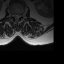CCS_normal: (15, 12, 18, 21)
LFS_normal: (20, 13, 22, 18)
LLS_normal: (18, 12, 20, 19)
RFS_normal: (11, 12, 13, 18)
RLS_normal: (13, 12, 15, 20)
